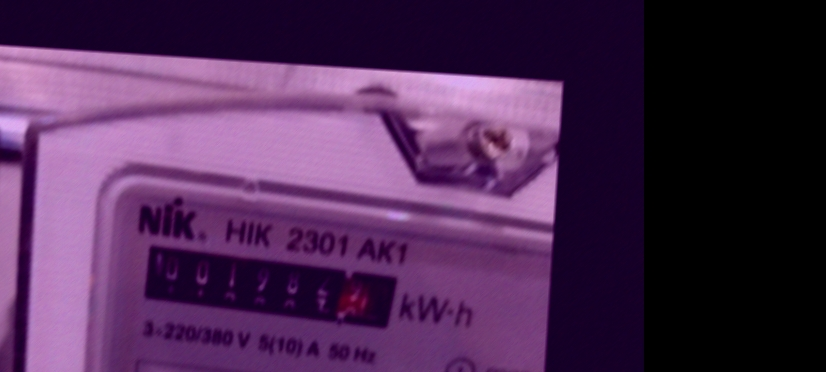0: (192, 256, 211, 286), (162, 251, 180, 281)
1: (224, 258, 238, 288)
2: (313, 267, 333, 297)
8: (283, 266, 301, 295)
9: (344, 275, 366, 304), (253, 263, 269, 293)
screen: (125, 229, 412, 343)
